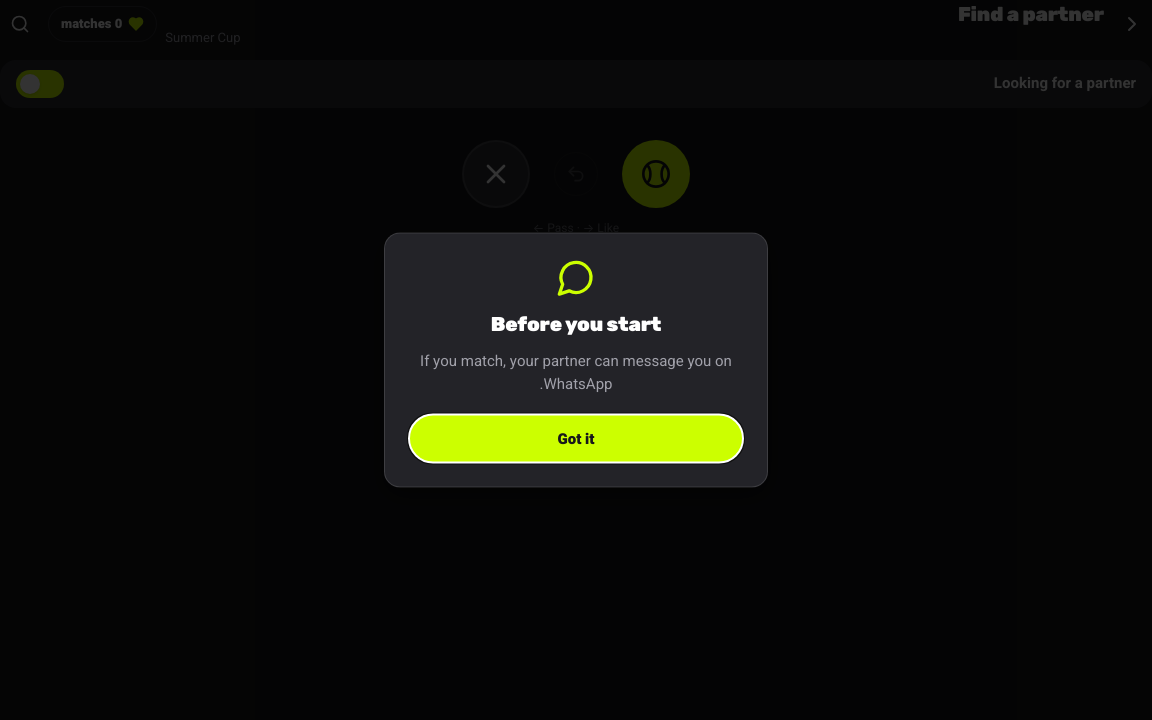
it: PartnerDeck — messages › the WhatsApp note shows on the first deck ever and is remembered; Got it closes it
Expected: the dialog "Before you start" shows "If you match, your partner can message you on WhatsApp.", [420, 350, 732, 394]
What coordinates should you click on to do the following:
click the button "Got it"
I would click on:
 (576, 438)
Its box is [409, 414, 743, 462].
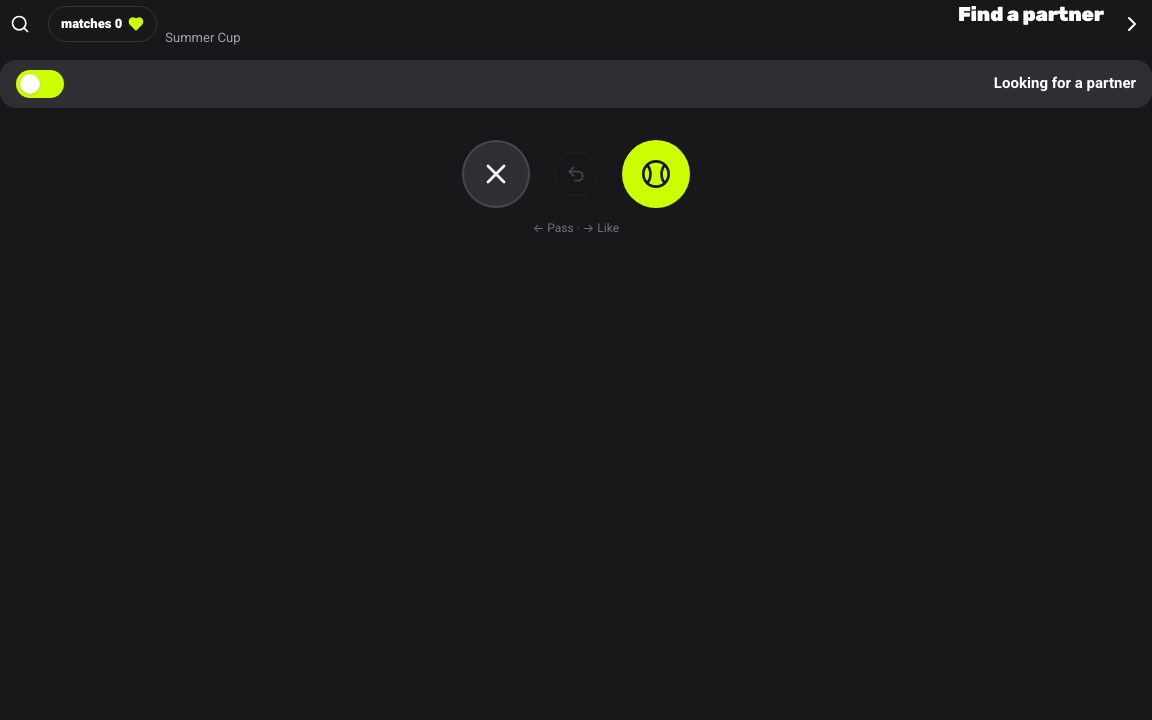
Expected: the dialog is gone
